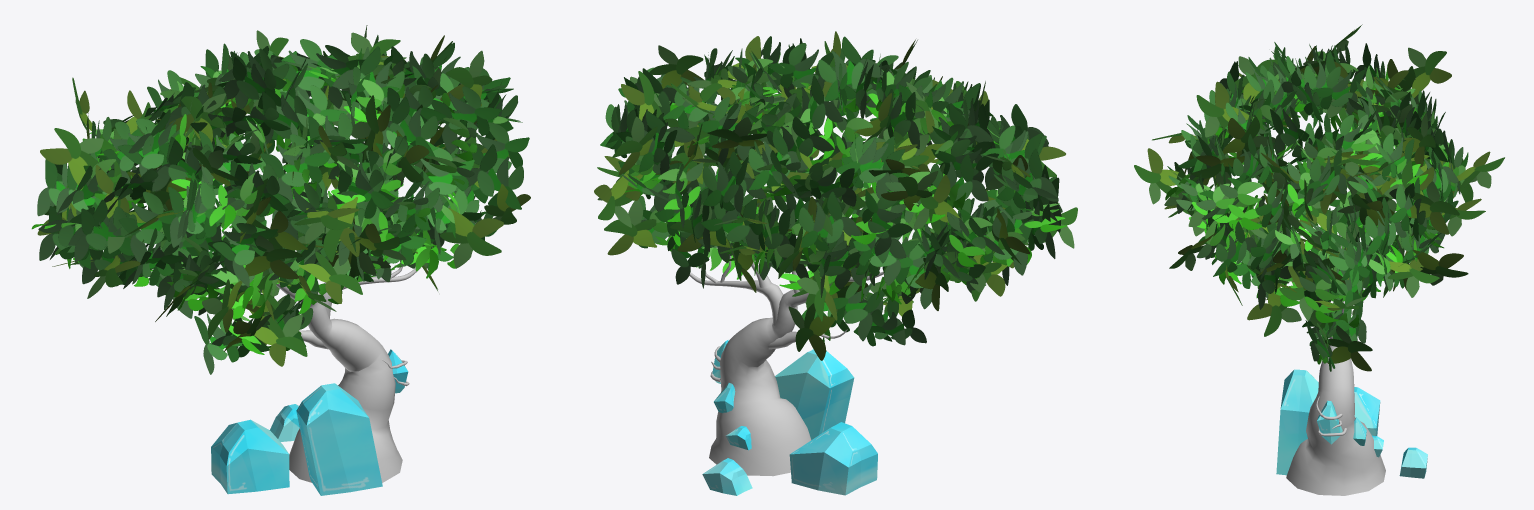
The model's file is pohon mystic2.fbx.
The picture shows the model from 3 angles, left to right: view 1: azimuth 30°, elevation 25°; view 2: azimuth 150°, elevation 25°; view 3: azimuth 270°, elevation 25°; orthographic projection. The views are drawn at different scales.
Parts seen in each view (by area): view 1: pohon2.001; view 2: pohon2.001; view 3: pohon2.001.
Boxes of the visible parts, x1,y1,x2,y2 form: pohon2.001: (31,25,530,495); pohon2.001: (594,31,1077,495); pohon2.001: (1134,24,1504,495).
Bounding box in the file's own units: 867 × 770 × 703.
